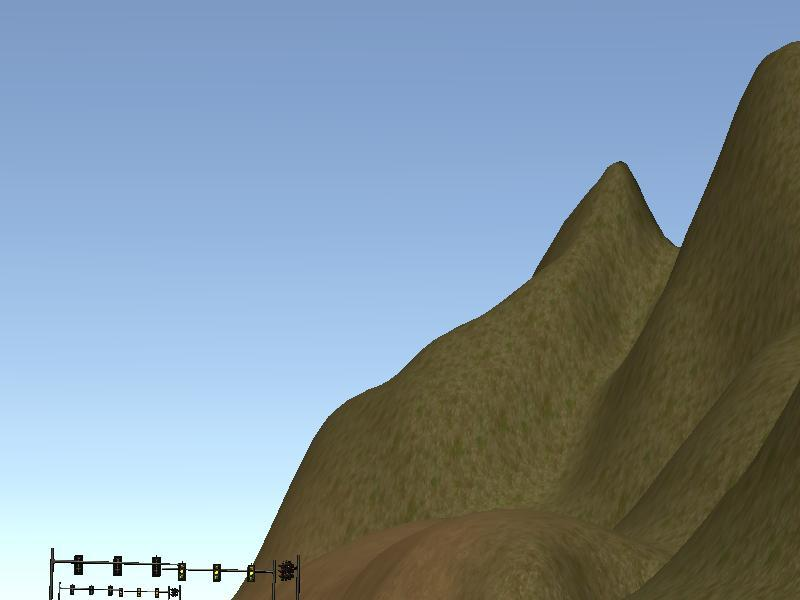Yellow: (211, 563, 221, 583), (177, 562, 186, 583), (246, 565, 256, 583)
